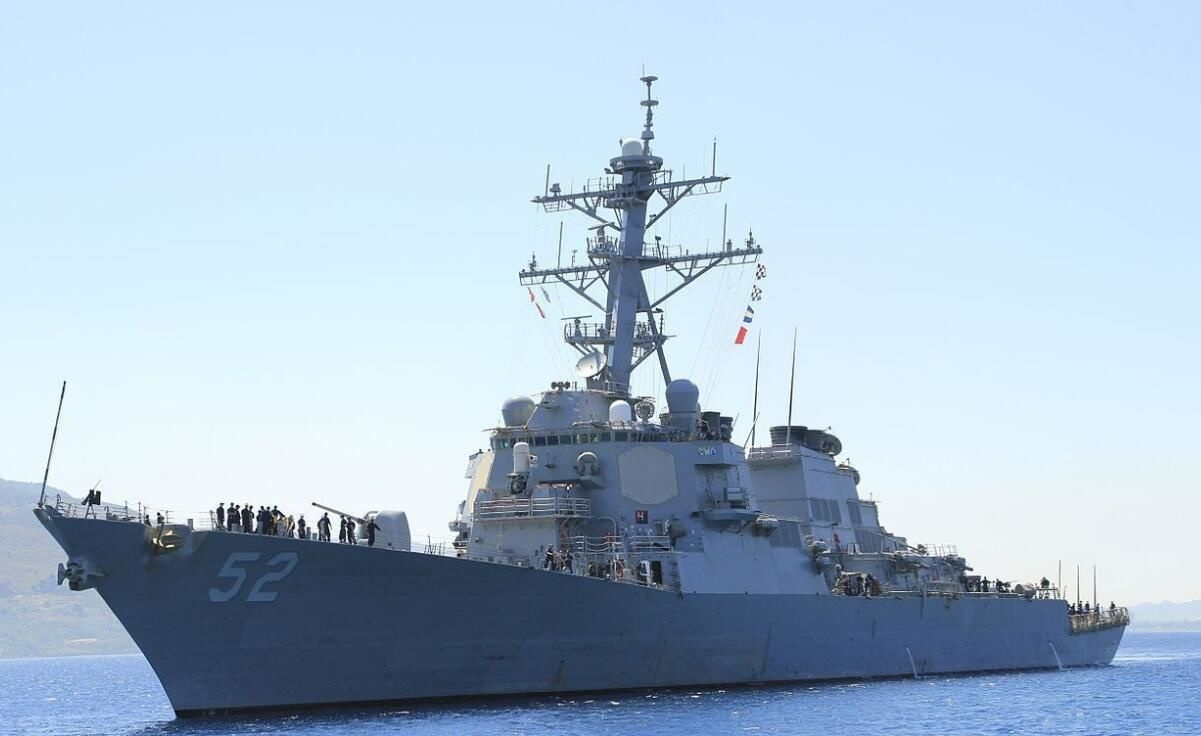warship: (27, 70, 1123, 717)
